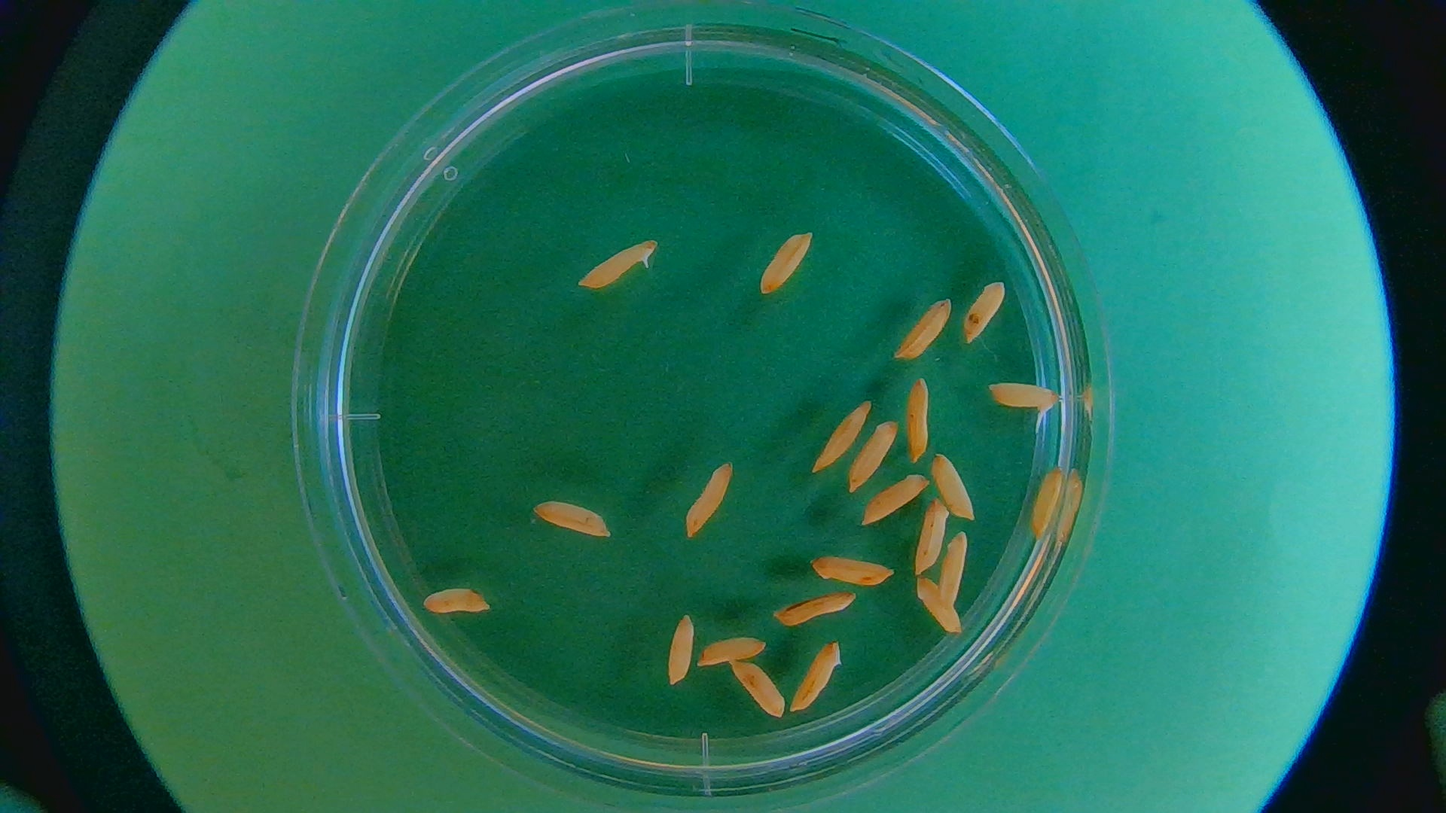no: (789, 635, 845, 709), (816, 399, 871, 473), (894, 293, 953, 360), (683, 464, 735, 539), (862, 470, 930, 526), (847, 422, 899, 492), (929, 448, 978, 521), (732, 659, 789, 720), (762, 230, 813, 298), (913, 577, 970, 635), (533, 498, 611, 540), (810, 553, 897, 586), (916, 493, 950, 577), (962, 281, 1007, 343), (1029, 464, 1067, 537), (777, 592, 859, 625), (938, 529, 970, 606), (664, 615, 697, 684), (903, 377, 929, 459), (700, 636, 767, 666), (423, 586, 489, 614)
yes: (579, 240, 660, 290), (991, 379, 1060, 414)
